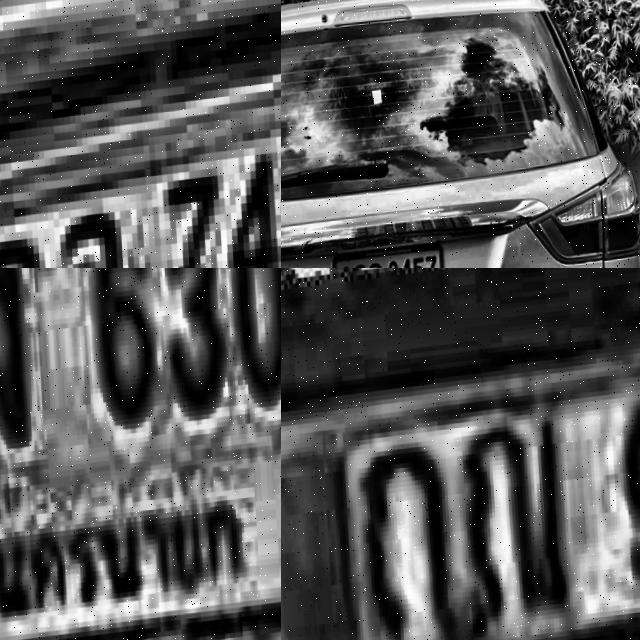license-plate: (281, 323, 640, 640), (0, 268, 281, 640), (0, 0, 281, 268), (329, 245, 448, 268)
